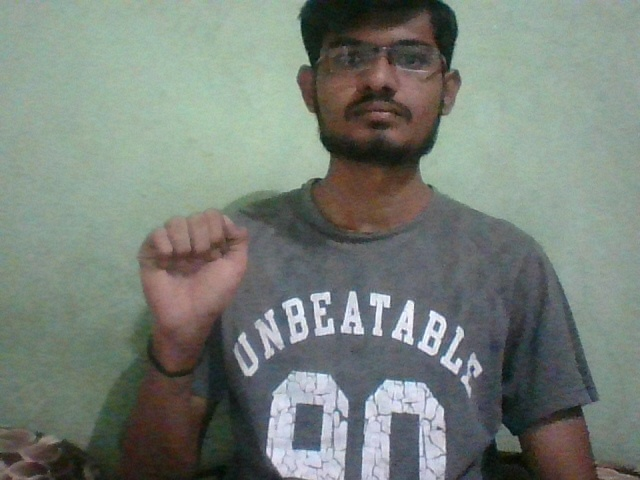goodby: (124, 207, 257, 341)
